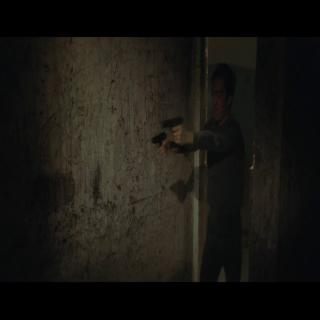gun: (161, 114, 184, 146), (149, 129, 169, 159)
